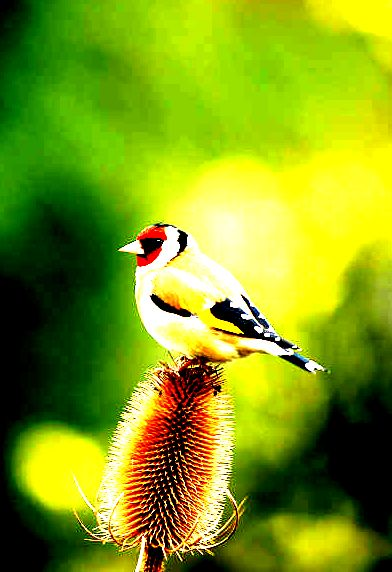Bird: (115, 220, 333, 380)
